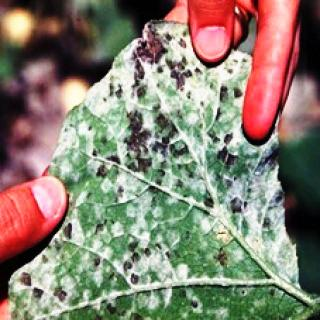grey mildew: (68, 27, 272, 314)
